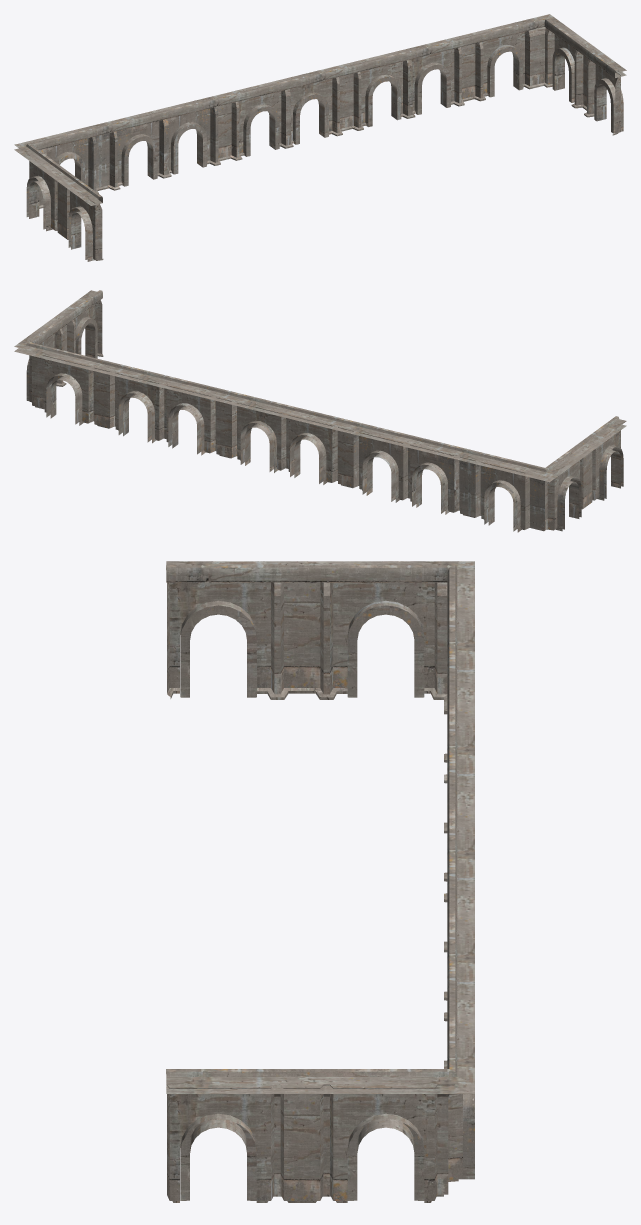
The model's file is acveduk.fbx.
The picture shows the model from 3 angles, top to bottom: view 1: azimuth 30°, elevation 25°; view 2: azimuth 150°, elevation 25°; view 3: azimuth 270°, elevation 25°; orthographic projection. The views are drawn at different scales.
Parts seen in each view (by area): view 1: acveduk; view 2: acveduk; view 3: acveduk.
Part boxes in pixels (left/top/right/bottom): acveduk: left=14, top=14, right=626, bottom=261; acveduk: left=14, top=290, right=626, bottom=532; acveduk: left=166, top=561, right=474, bottom=1202.
Bounding box in the file's own units: 501 × 58.45 × 125.
